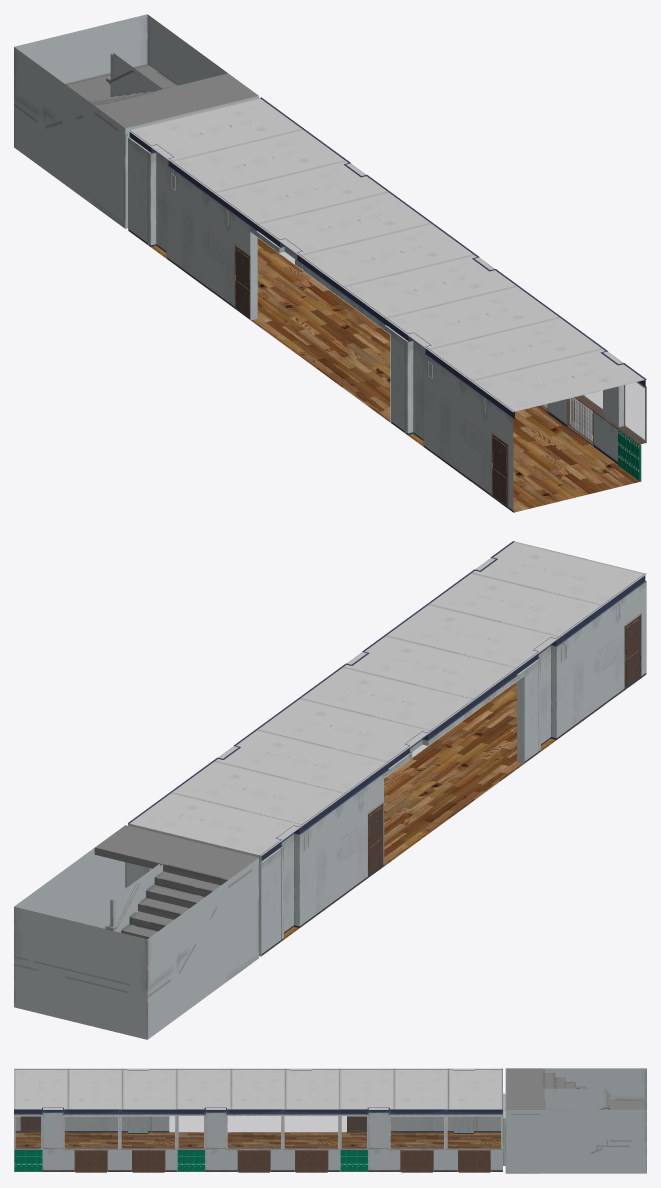
The picture shows the model from 3 angles, top to bottom: view 1: azimuth 30°, elevation 25°; view 2: azimuth 150°, elevation 25°; view 3: azimuth 270°, elevation 25°; orthographic projection. The views are drawn at different scales.
Visible parts, largest first — view 1: The Japanese school corridor, Shared_facade_returns; view 2: The Japanese school corridor, Shared_facade_returns; view 3: The Japanese school corridor.
Boxes of the visible parts, <box> form: The Japanese school corridor: <box>14,14,646,512</box>; Shared_facade_returns: <box>250,232,391,422</box>; The Japanese school corridor: <box>14,541,646,1039</box>; Shared_facade_returns: <box>383,676,524,866</box>; The Japanese school corridor: <box>14,1068,646,1173</box>.
Size of the model in its own units: 4.67 by 3.35 by 30.13.
Materials: 5 (5 with a texture image).
